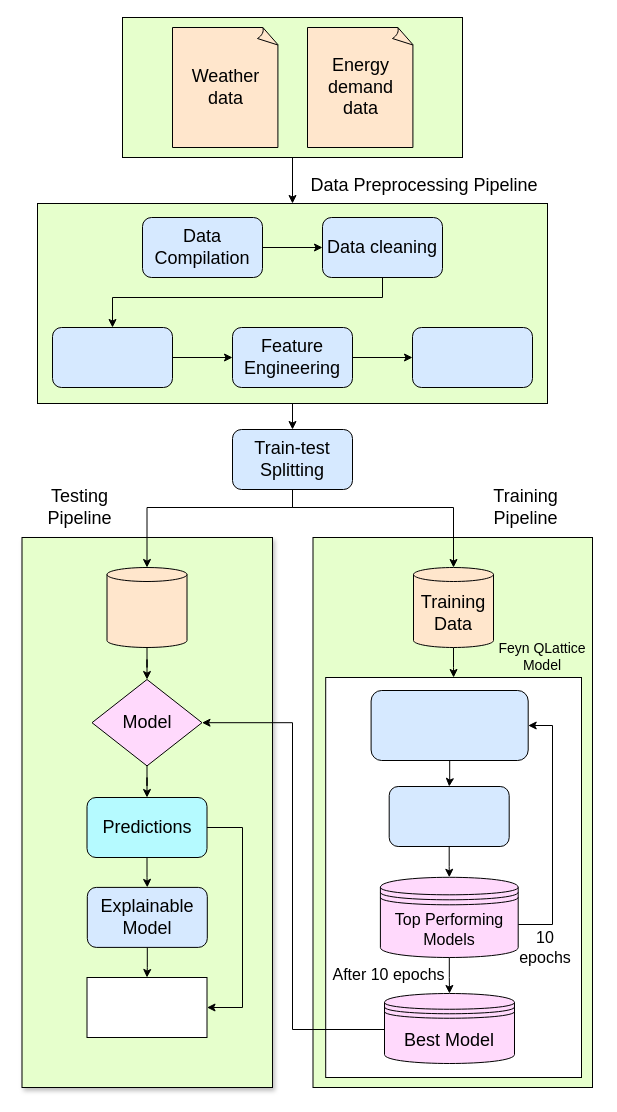
The diagram is 617 pixels wide and 1112 high, and some of its shapes have lost their labels. The centre of each missing label's shape, as x and y in pixels:
"Candidate Model Initiation" goes at pixel 449 725.
"Data Aggregation" goes at pixel 112 357.
"Feature Selection" goes at pixel 472 357.
"Model Training" goes at pixel 448 816.
"Outputs & Predictions" goes at pixel 146 1007.
"Testing Data" goes at pixel 146 607.
